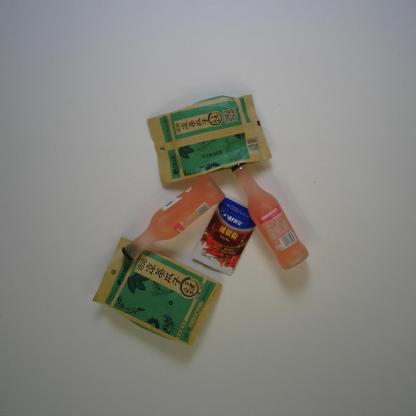Alcohol: (119, 172, 227, 262), (232, 161, 310, 271)
Dried Food: (91, 236, 224, 346), (146, 93, 274, 185)
Seasoner: (191, 195, 257, 277)
